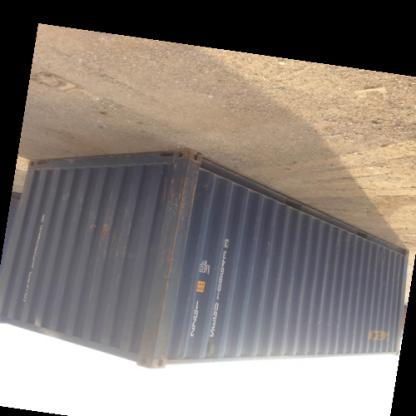Damage: (152, 171, 196, 306), (72, 211, 127, 250), (247, 215, 275, 267), (296, 312, 346, 340)
